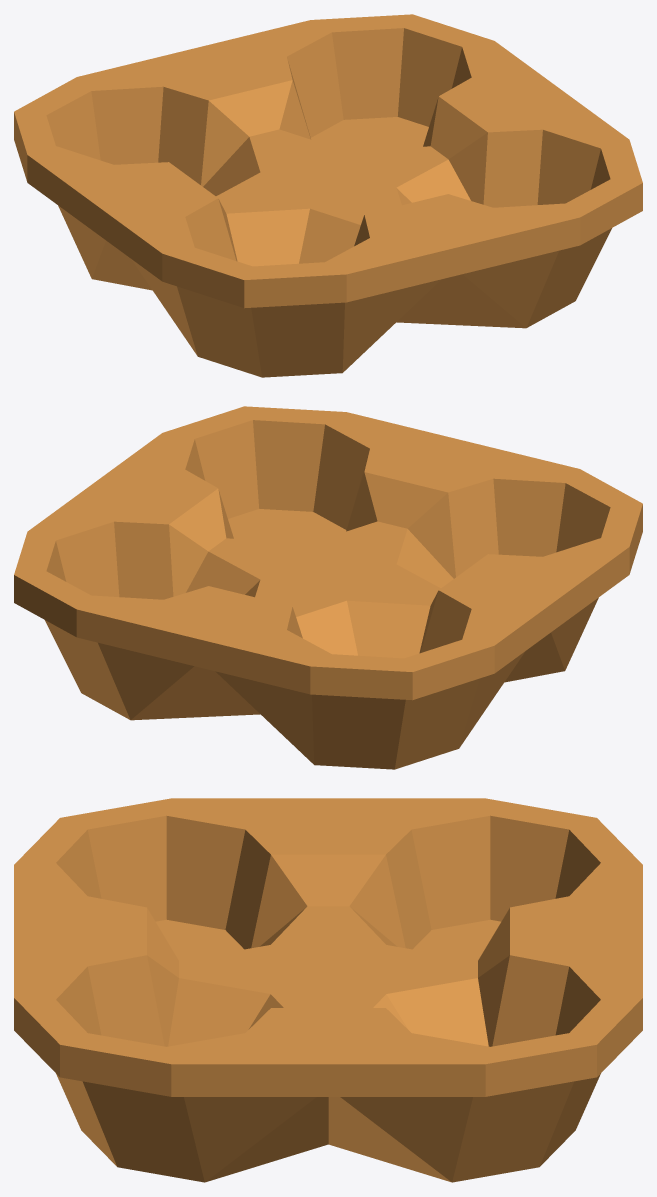
Rendered from CoffeeTray.FBX.
3 renders of one model, top to bottom at view 1: azimuth 30°, elevation 25°; view 2: azimuth 150°, elevation 25°; view 3: azimuth 270°, elevation 25°, orthographic. The views are drawn at different scales.
Visible parts, largest first — view 1: CoffeeTray; view 2: CoffeeTray; view 3: CoffeeTray.
Part boxes in pixels (x1,y1,x2,y2): CoffeeTray: (14,14,642,377); CoffeeTray: (14,406,642,769); CoffeeTray: (14,798,642,1182).
Bounding box in the file's own units: 38.85 × 10 × 38.85.
